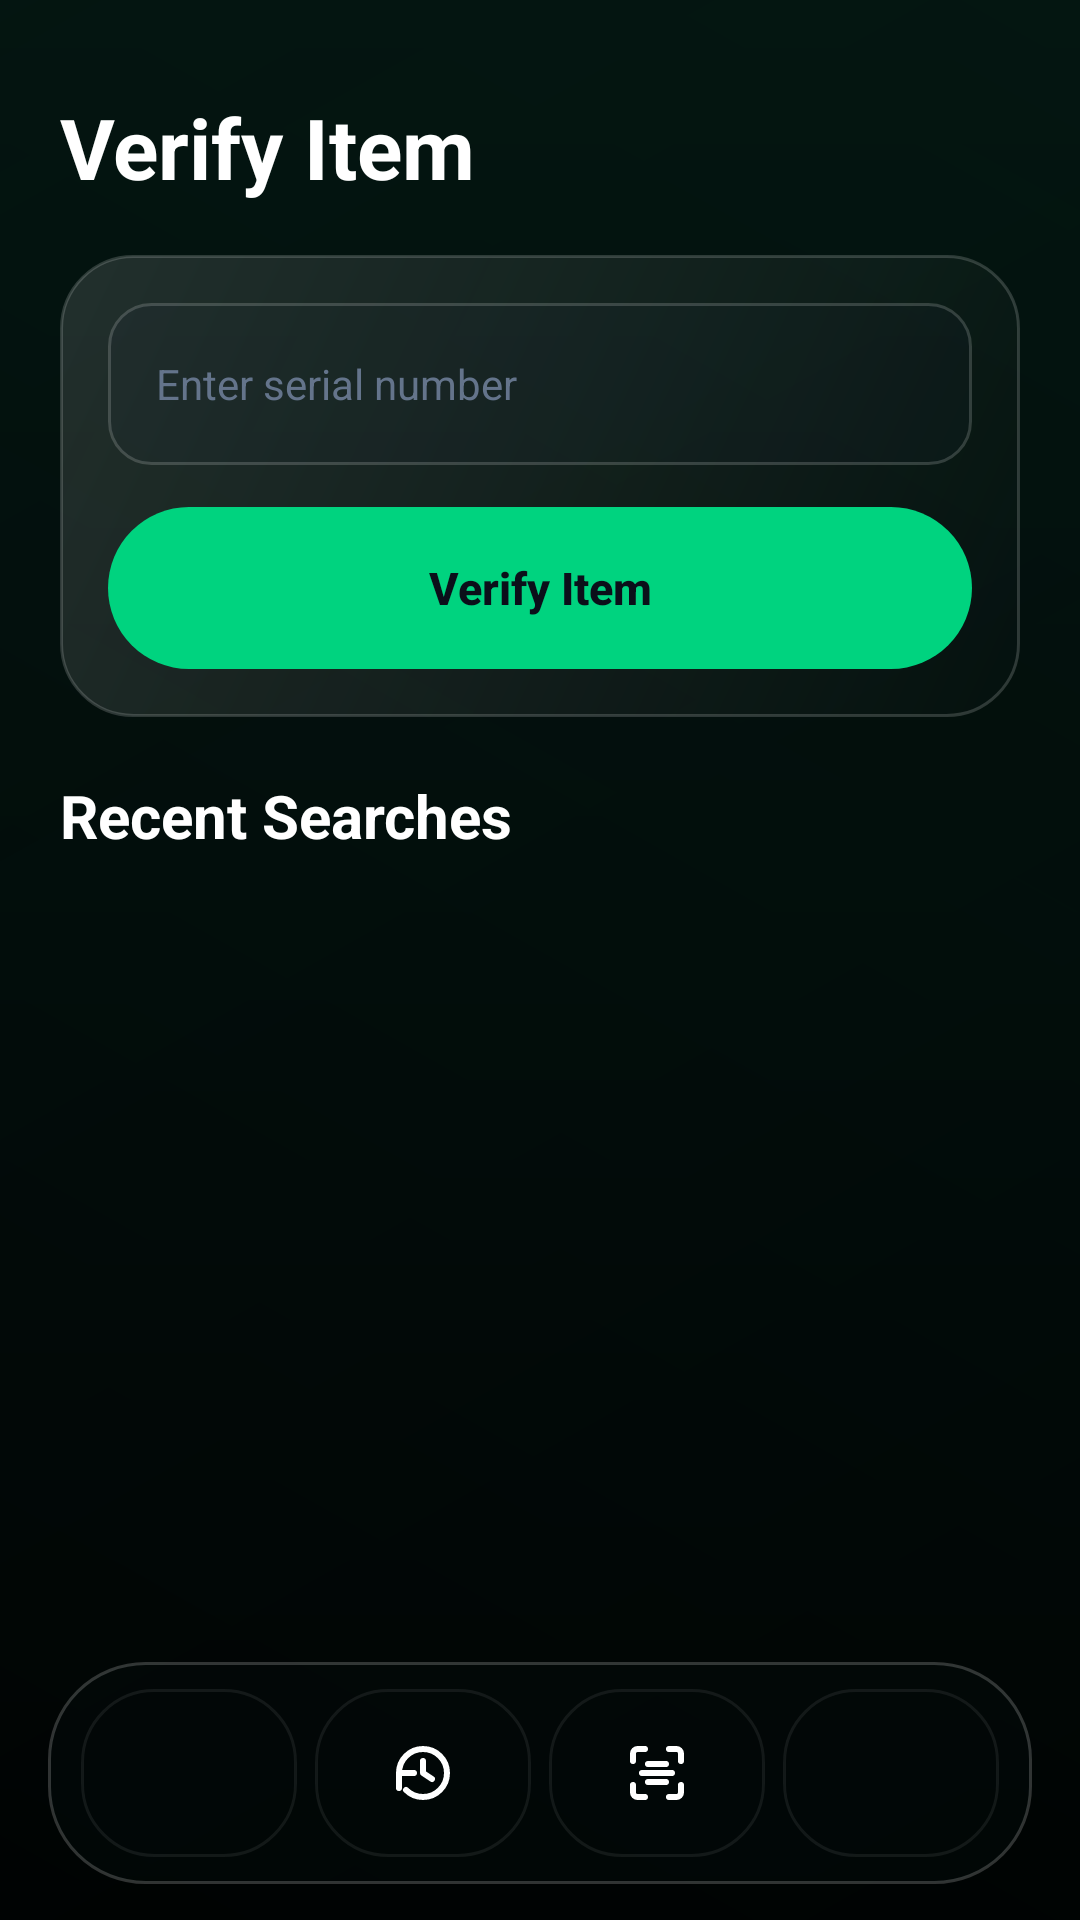

Where icons sit on this 1080*1920 app screen, as (x1, y1, x2, y2):
history: (396, 1746, 450, 1800)
scan: (630, 1746, 684, 1800)
